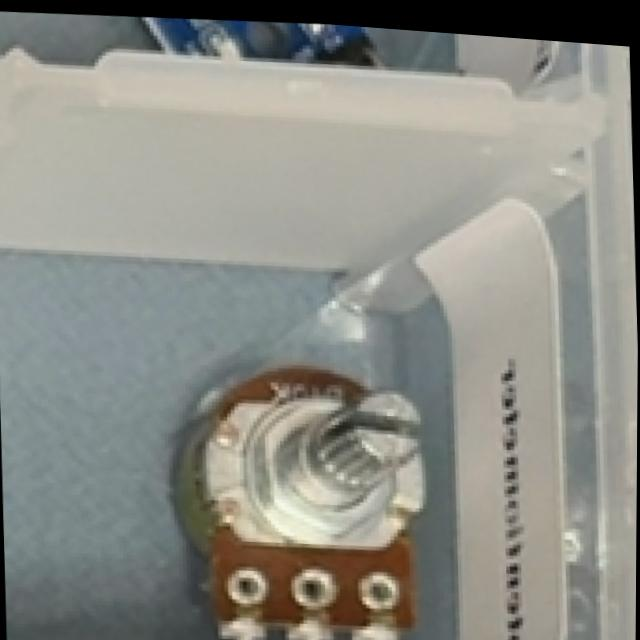Potentiometer: (155, 349, 435, 640)
